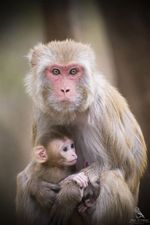monkey: (18, 24, 130, 224), (23, 117, 81, 199)
